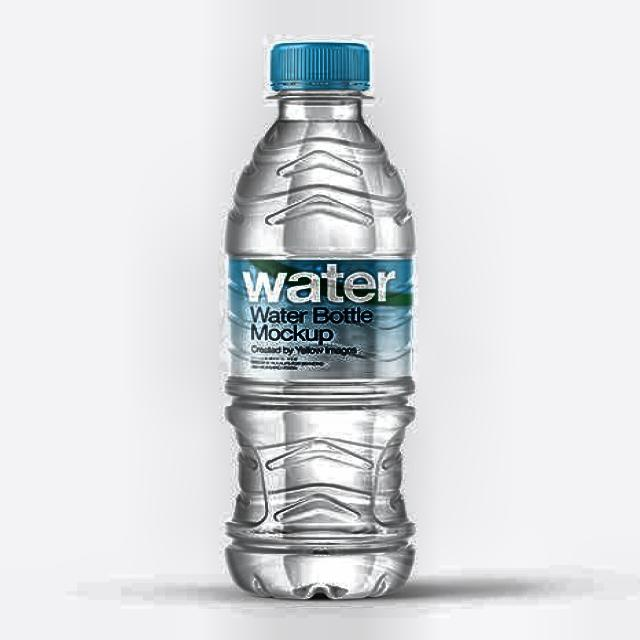Bottles: (207, 40, 434, 610)
